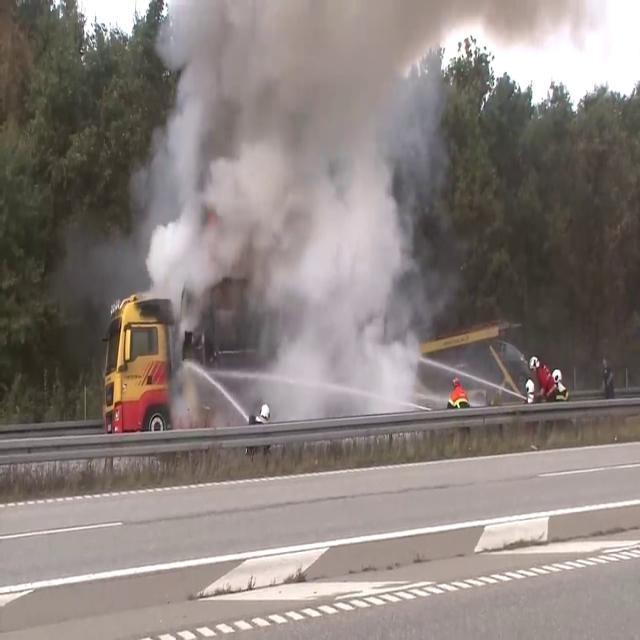Smoke: (132, 0, 454, 400)
